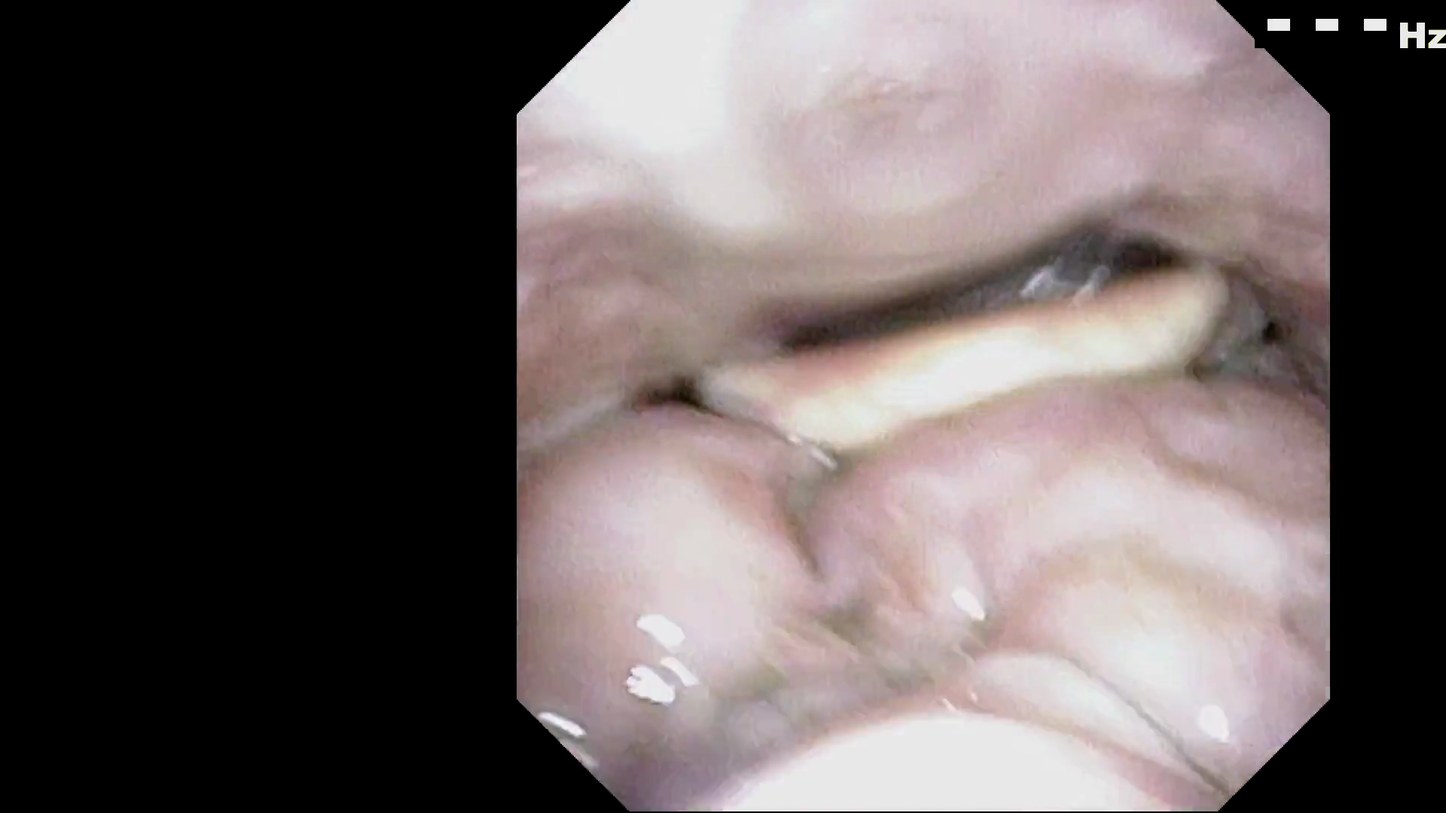epiglottis: (714, 381, 1296, 539)
